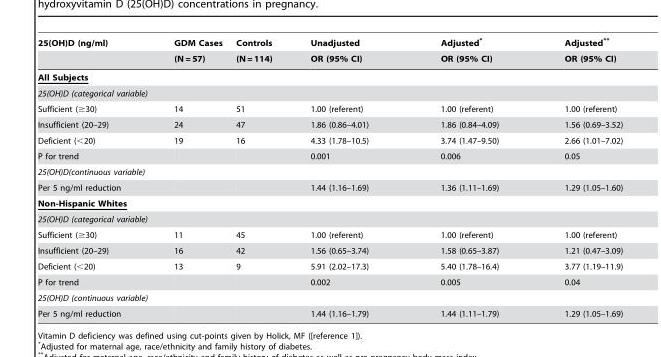table: (37, 36, 622, 317)
table column: (403, 36, 530, 317), (290, 36, 403, 317), (37, 36, 146, 317), (530, 36, 622, 317), (146, 36, 228, 317), (228, 36, 290, 317)
table column header: (37, 36, 622, 67)
table projected row header: (37, 67, 622, 85), (37, 163, 622, 179), (37, 195, 622, 211), (37, 289, 622, 305), (37, 85, 622, 100), (37, 211, 622, 226)
table row: (37, 67, 622, 85), (37, 50, 622, 67), (37, 100, 622, 116), (37, 116, 622, 132), (37, 132, 622, 148), (37, 163, 622, 179), (37, 179, 622, 195), (37, 195, 622, 211), (37, 226, 622, 242), (37, 242, 622, 258), (37, 258, 622, 274), (37, 289, 622, 305), (37, 85, 622, 100), (37, 148, 622, 163), (37, 211, 622, 226), (37, 274, 622, 289), (37, 36, 622, 50), (37, 305, 622, 317)
table spanning cell: (403, 36, 530, 67), (290, 36, 403, 67), (37, 36, 146, 67), (530, 36, 622, 67), (146, 36, 228, 67), (228, 36, 290, 67)
